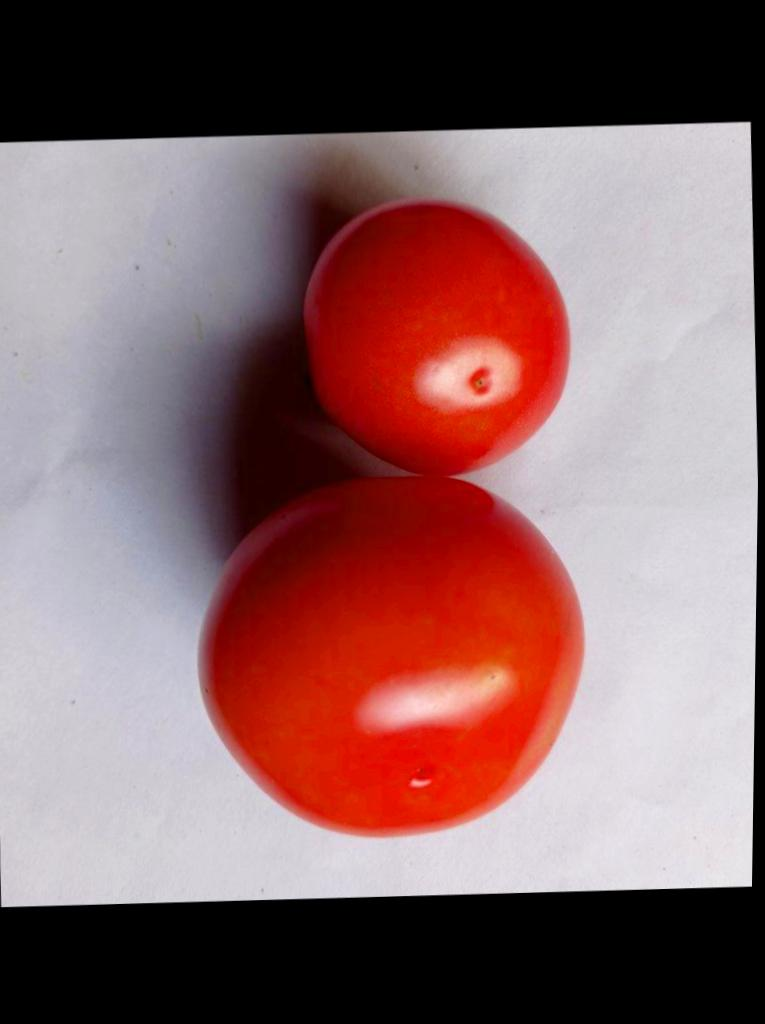tomato: (199, 478, 583, 837), (303, 200, 568, 474)
